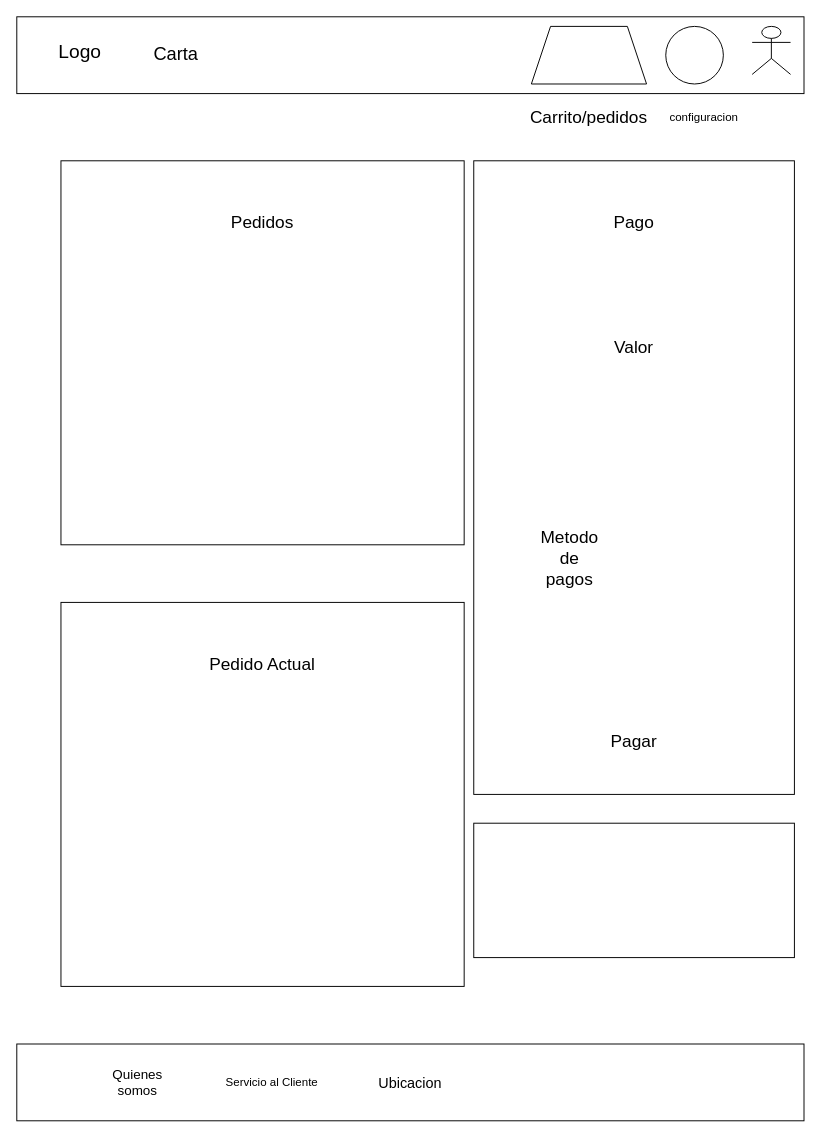
Some shapes in this 821 by 1138 pixel diagram are drawn without their labels. The shapes that lost their labels are listed below. From the top down, each one's centre as x and y in pixels, then its label:
At (x=771, y=49): "Perfil".
At (x=633, y=890): "Historial".
